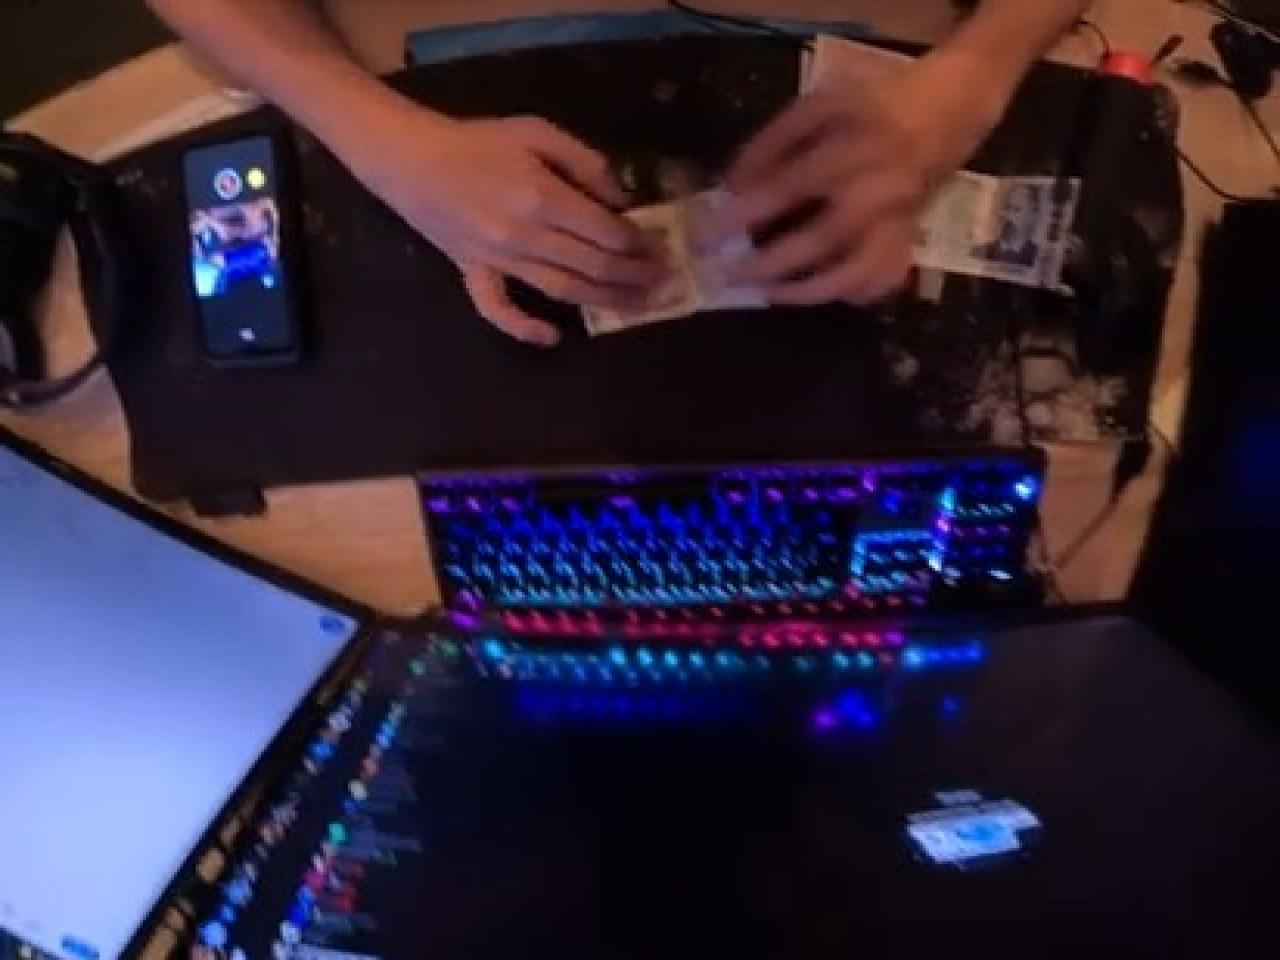50leva: (665, 178, 817, 312)
